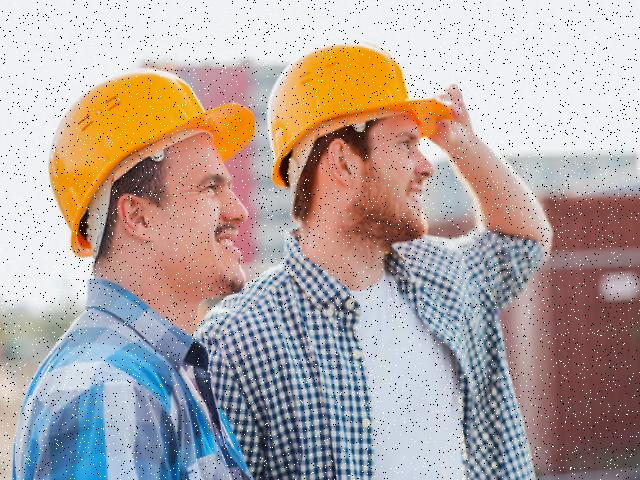Helmet: (43, 60, 259, 267), (262, 39, 448, 196)
